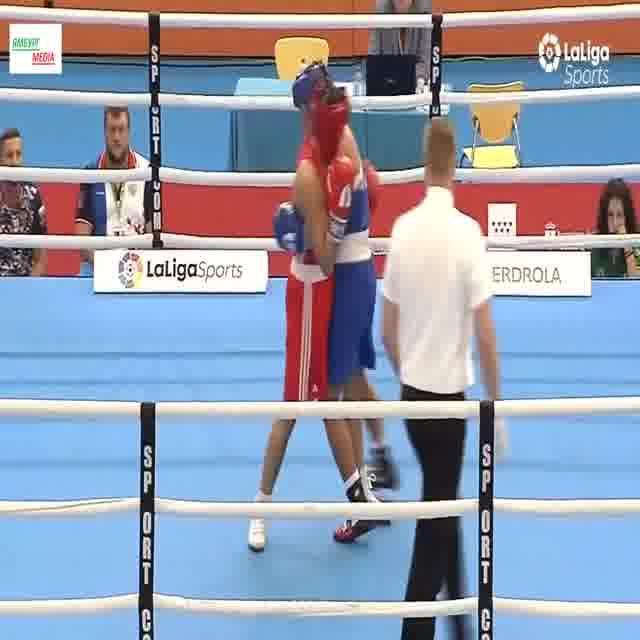blue-player: (272, 59, 402, 564)
red-player: (244, 79, 394, 560)
referee: (381, 113, 512, 640)
